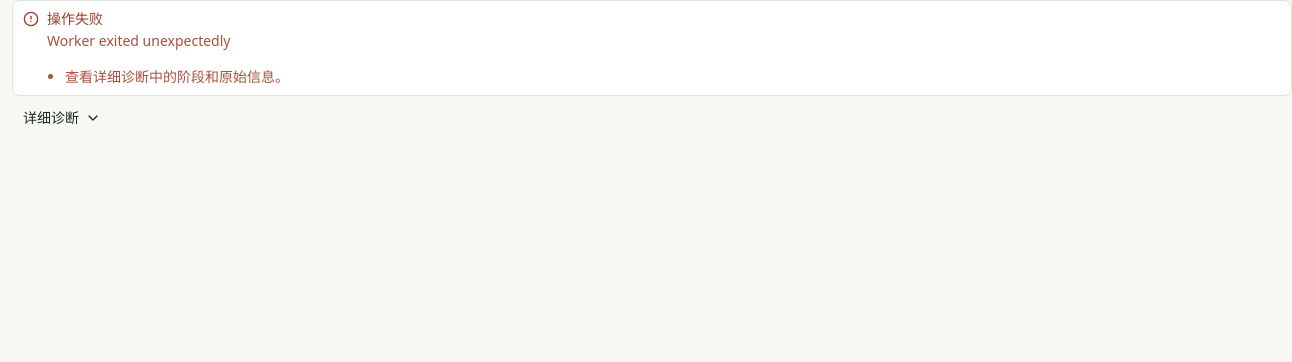
Test: keeps the original internal diagnosis visible
The width and height of the screenshot is (1292, 362).
Expected: the text "Worker exited unexpectedly" is shown, [47, 31, 230, 50]
Click the button "详细诊断" at x=61, y=118, box [12, 102, 110, 134]
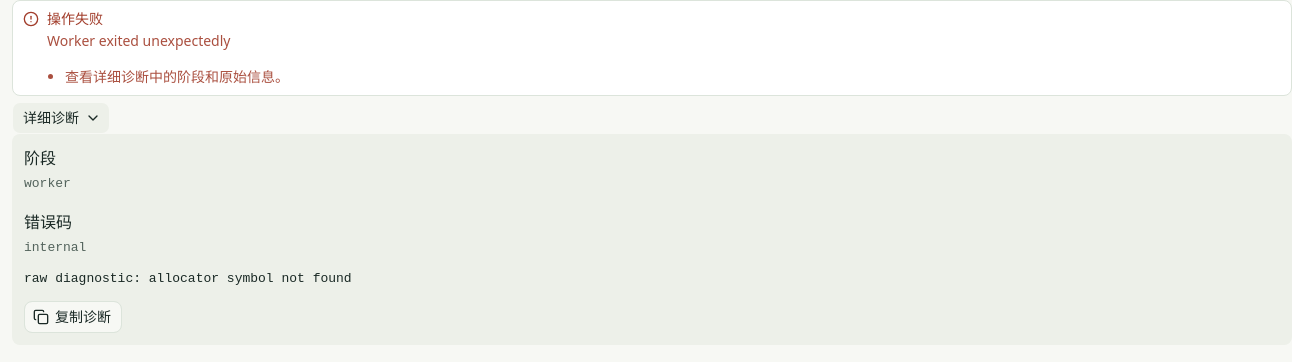
Now the text "worker" is shown, box [24, 176, 71, 191]
Now the text "raw diagnostic: allocator symbol not found" is shown, box [24, 271, 352, 286]
